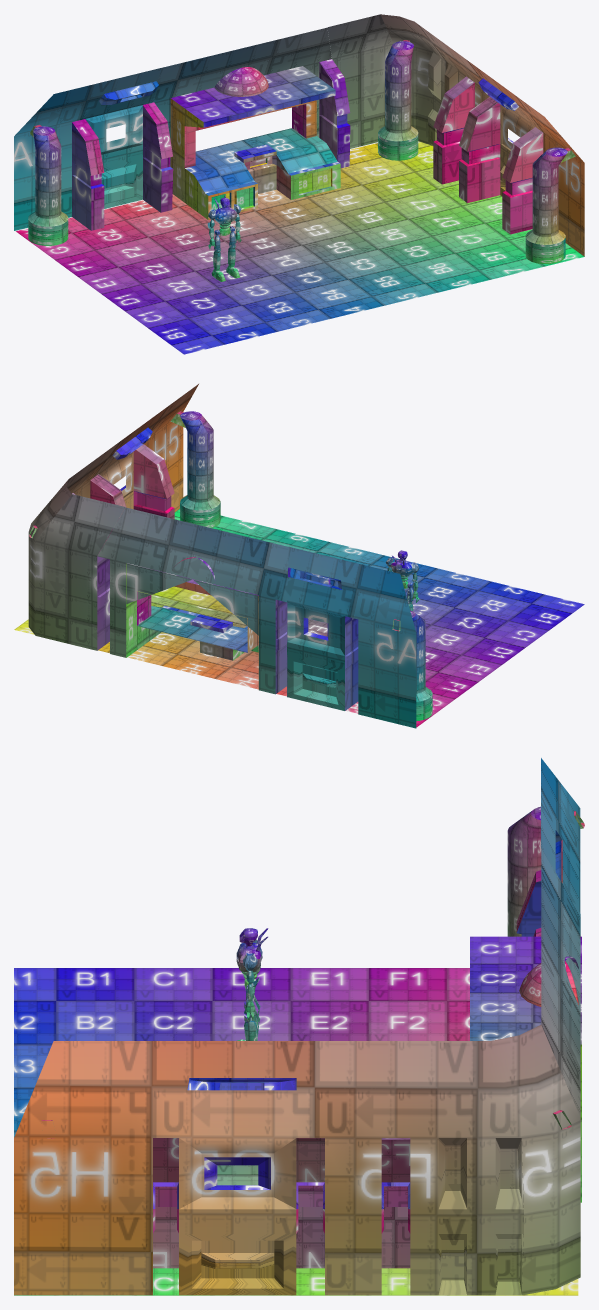
File: BackgroundThree.obj
The picture shows the model from 3 angles, top to bottom: view 1: azimuth 30°, elevation 25°; view 2: azimuth 150°, elevation 25°; view 3: azimuth 270°, elevation 25°; orthographic projection. The views are drawn at different scales.
Visible parts, largest first — view 1: pPlane2, group1 pPlane1, pCube1 group1, pasted__pCylinder1 group, pasted__pasted__pasted__pCylinder1 pasted__pasted__group pasted_, pasted__pasted__pCylinder1 pasted__group group5, UVModeling:pCube3, pSphere1; view 2: group1 pPlane1, pPlane2, pCube1 group1, pasted__pasted__pasted__pCylinder1 pasted__pasted__group pasted_, pasted__pCylinder1 group, UVModeling:pCube3; view 3: group1 pPlane1, pPlane2, pCube1 group1, pasted__pCylinder1 group, UVModeling:pCube3, pSphere1.
Part boxes in pixels (<box>): pPlane2: <box>16,141,584,354</box>; group1 pPlane1: <box>14,14,584,256</box>; pCube1 group1: <box>170,66,340,219</box>; pasted__pCylinder1 group: <box>28,125,68,245</box>; pasted__pasted__pasted__pCylinder1 pasted__pasted__group pasted_: <box>525,147,575,263</box>; pasted__pasted__pCylinder1 pasted__group group5: <box>378,40,418,160</box>; UVModeling:pCube3: <box>207,195,241,281</box>; pSphere1: <box>214,67,268,96</box>; group1 pPlane1: <box>28,384,416,728</box>; pPlane2: <box>14,509,584,727</box>; pCube1 group1: <box>126,563,258,689</box>; pasted__pasted__pasted__pCylinder1 pasted__pasted__group pasted_: <box>170,411,220,528</box>; pasted__pCylinder1 group: <box>392,610,432,720</box>; UVModeling:pCube3: <box>386,550,419,611</box>; group1 pPlane1: <box>14,758,580,1295</box>; pPlane2: <box>14,968,578,1295</box>; pCube1 group1: <box>470,936,581,1202</box>; pasted__pCylinder1 group: <box>507,806,584,936</box>; UVModeling:pCube3: <box>236,928,268,1040</box>; pSphere1: <box>519,956,578,1006</box>.
Size of the model in its own units: 1587 by 526 by 1165.
Materials: 4 (4 with a texture image).
